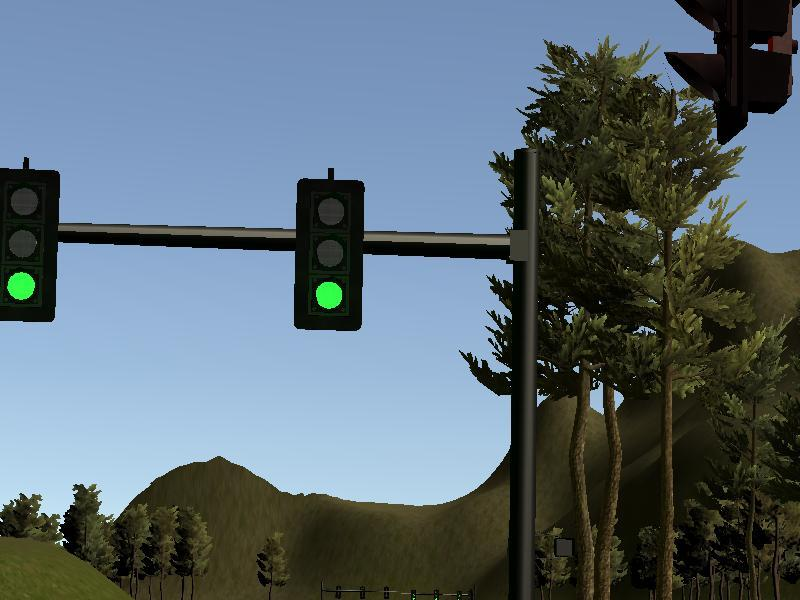Green: (297, 182, 361, 329), (1, 171, 55, 318)
